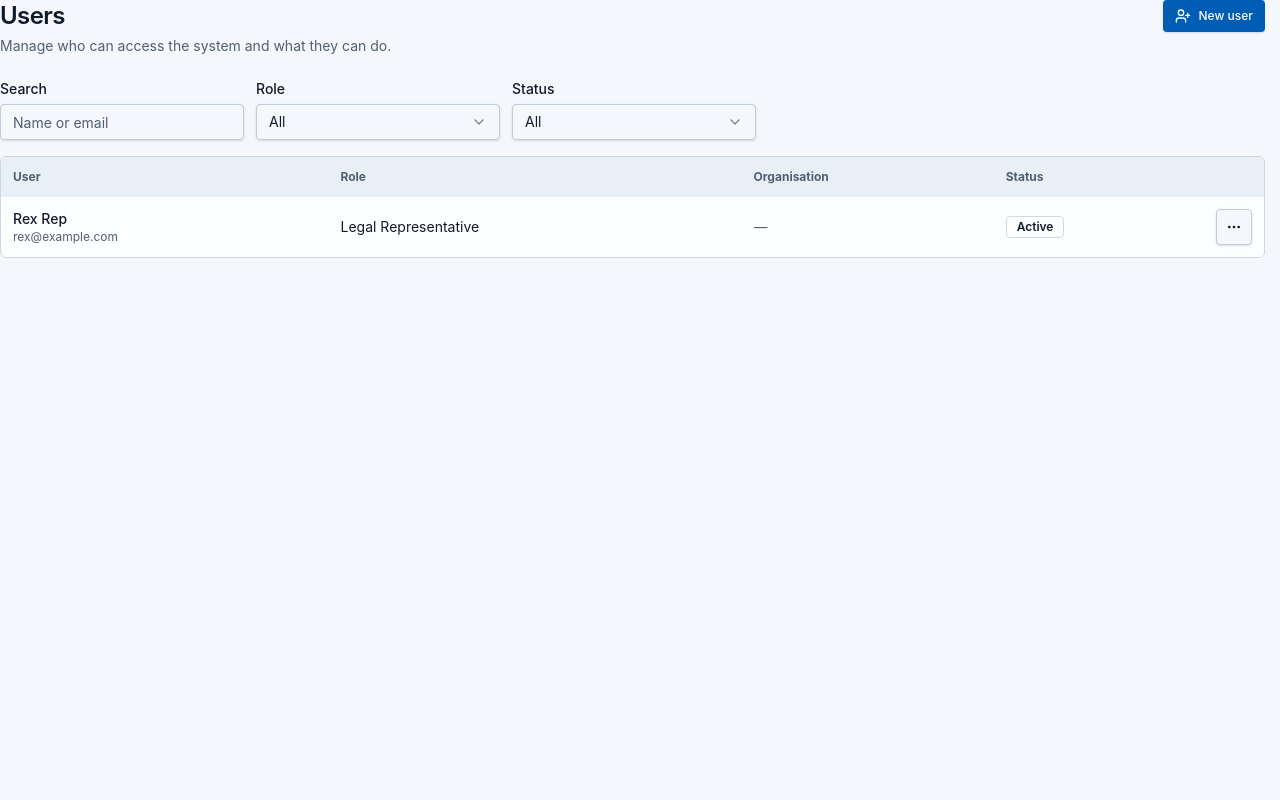
Test: UsersPage password ownership › the New user form has no password field, and defaults the country to Saudi Arabia
Expected: the text "Rex Rep" is shown, [13, 210, 67, 227]
What coordinates should you click on to do the following:
click the button "New user"
I would click on:
 (1214, 16)
Its box is [1162, 0, 1265, 32].
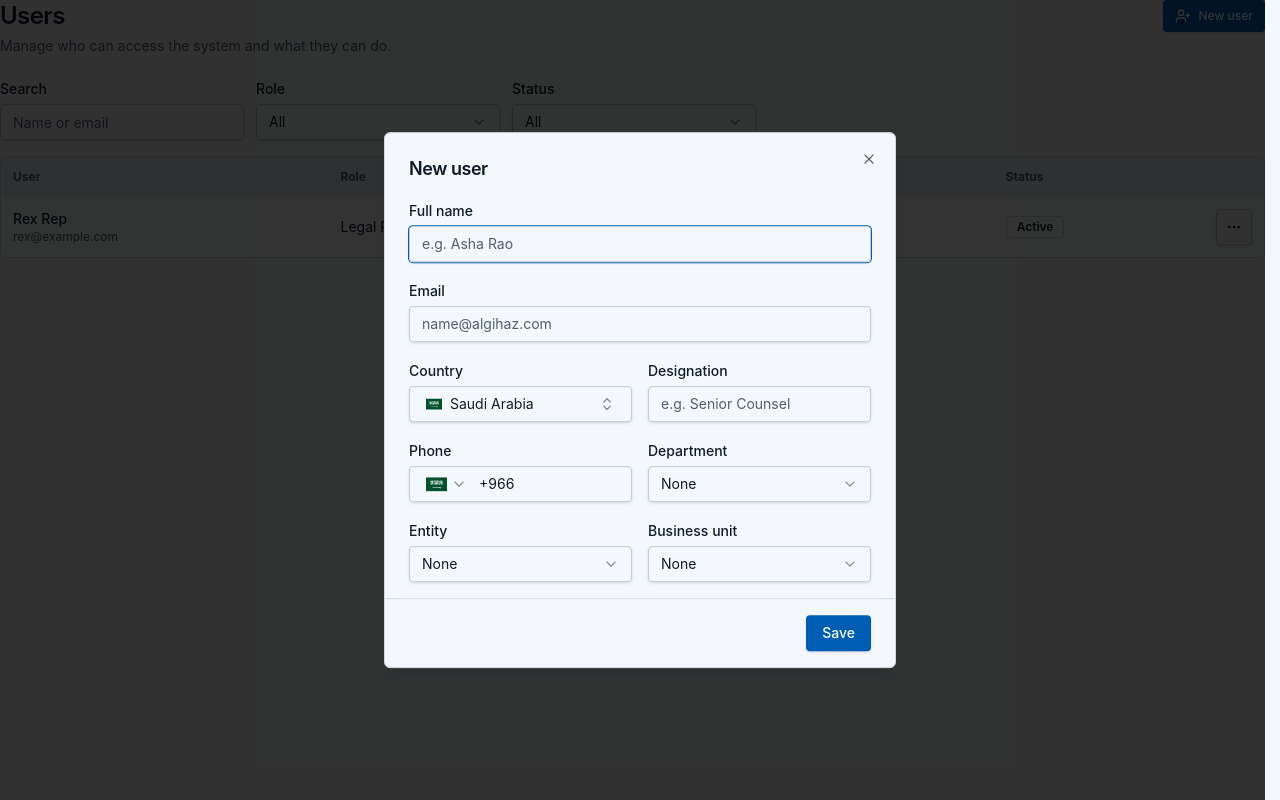
Now the field labelled "Full name" is shown, box [409, 226, 871, 262]
Now the dropdown named "Country" reads "Saudi Arabia", box [409, 386, 632, 422]
